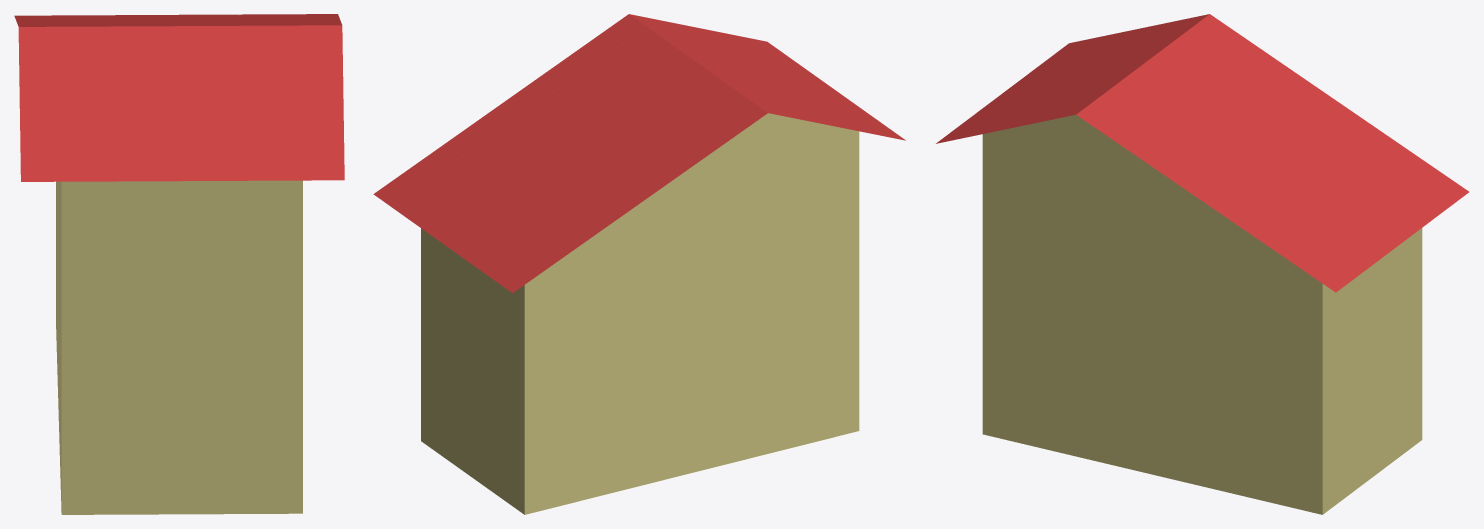
3 views of the same model, side by side, from view 1: azimuth 30°, elevation 25°; view 2: azimuth 150°, elevation 25°; view 3: azimuth 270°, elevation 25° (orthographic). The views are drawn at different scales.
Parts seen in each view (by area): view 1: group_5, group_3, group_4; view 2: group_5, group_3, group_4; view 3: group_5, group_3, group_4.
Part boxes in pixels (bbox=[...]): group_5: bbox=[56, 15, 302, 514]; group_3: bbox=[14, 15, 344, 181]; group_4: bbox=[18, 14, 344, 181]; group_5: bbox=[421, 113, 859, 514]; group_3: bbox=[421, 14, 905, 292]; group_4: bbox=[373, 14, 904, 292]; group_5: bbox=[982, 115, 1422, 514]; group_3: bbox=[983, 14, 1468, 258]; group_4: bbox=[936, 14, 1468, 292].
Size of the model in its own units: 10 by 11.54 by 8.55.
